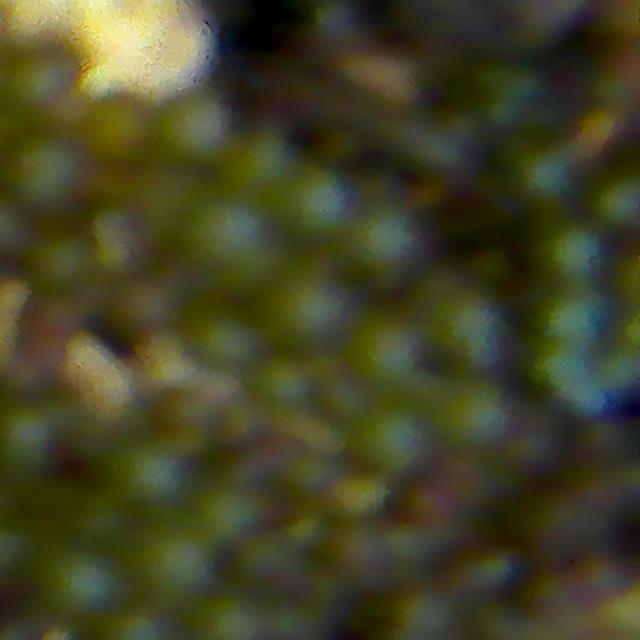SeaGrape: (415, 289, 505, 372), (188, 206, 268, 293), (7, 136, 90, 219), (139, 523, 217, 604), (346, 319, 424, 395), (270, 279, 350, 352), (47, 547, 121, 621), (156, 96, 229, 170), (427, 385, 505, 449), (237, 528, 309, 596), (117, 440, 187, 506), (347, 212, 414, 279), (360, 408, 423, 478), (89, 95, 153, 163), (543, 287, 608, 352), (200, 482, 268, 544), (0, 403, 58, 475), (10, 48, 77, 110), (231, 131, 294, 192), (280, 176, 340, 239), (83, 216, 143, 279), (135, 169, 193, 232), (545, 224, 604, 283), (33, 234, 93, 292), (195, 595, 270, 640), (198, 313, 256, 370), (257, 356, 315, 410), (519, 146, 574, 201), (119, 278, 176, 330), (598, 175, 639, 230)
